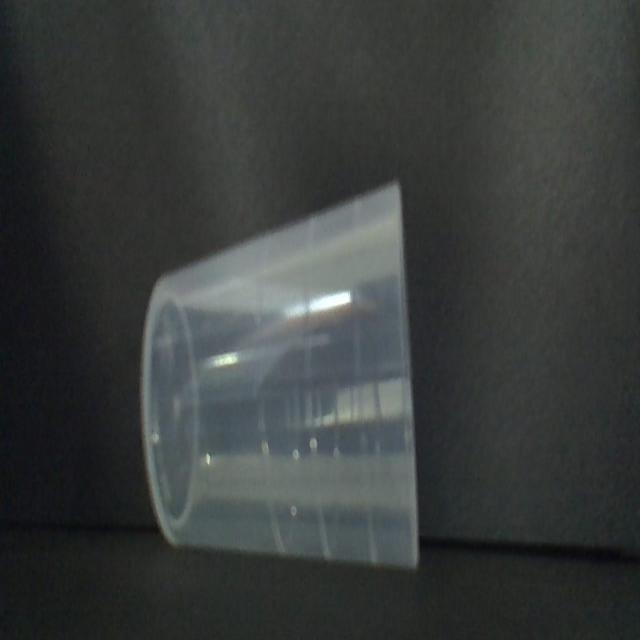cup: (146, 176, 430, 583)
